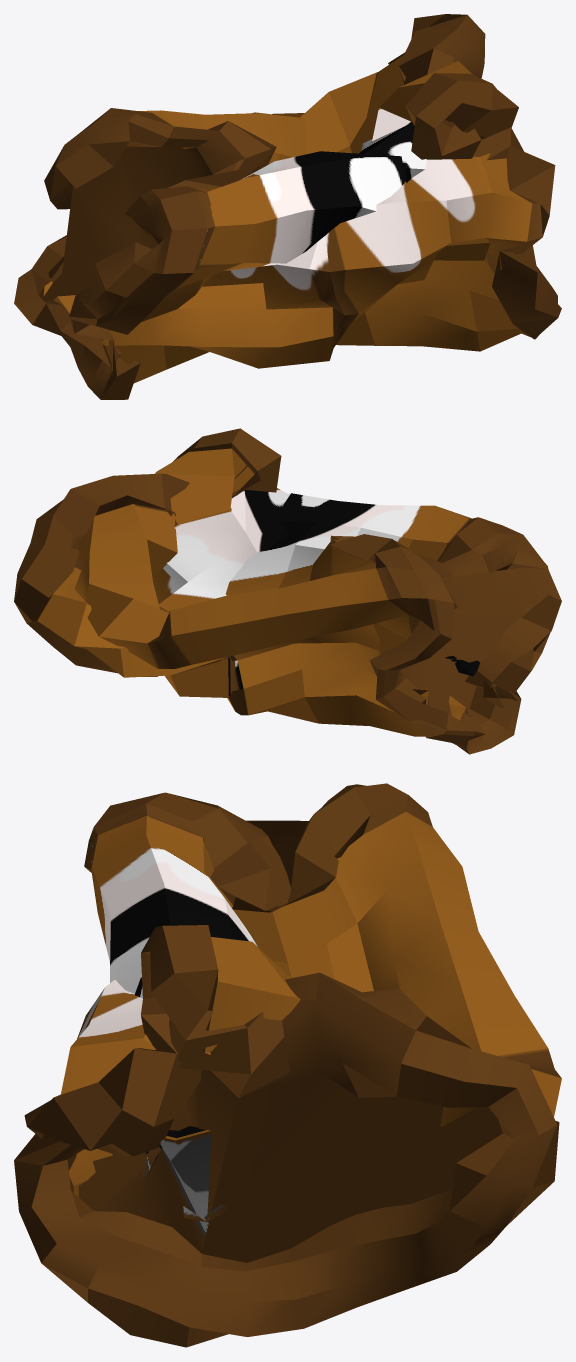
File: exploded_barrel.fbx
3 views of the same model, one above another, from view 1: azimuth 30°, elevation 25°; view 2: azimuth 150°, elevation 25°; view 3: azimuth 270°, elevation 25° (orthographic). The views are drawn at different scales.
Parts seen in each view (by area): view 1: barrel.001; view 2: barrel.001; view 3: barrel.001.
Boxes of the visible parts, bbox=[...] form: barrel.001: bbox=[14, 14, 561, 399]; barrel.001: bbox=[14, 428, 561, 754]; barrel.001: bbox=[14, 783, 561, 1347].
Size of the model in its own units: 62.72 by 33.01 by 43.58.
